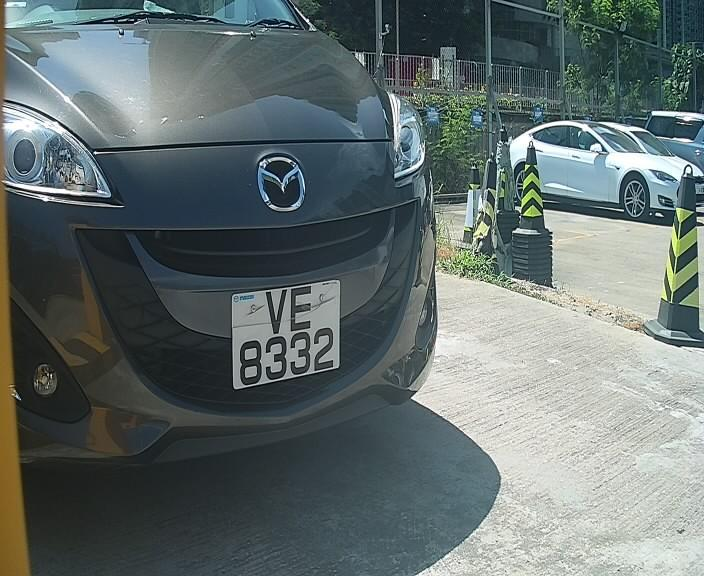privatecar: (7, 16, 447, 487)
